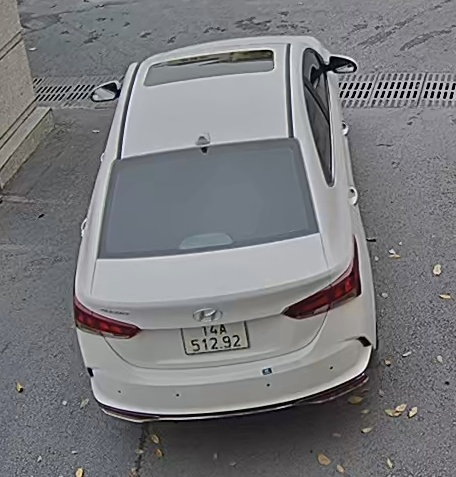vehicle plate: (175, 318, 249, 356)
